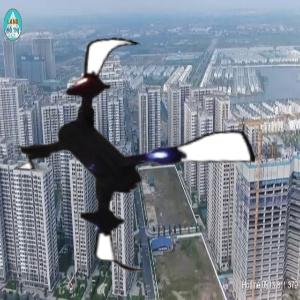drone: (9, 29, 257, 277)
